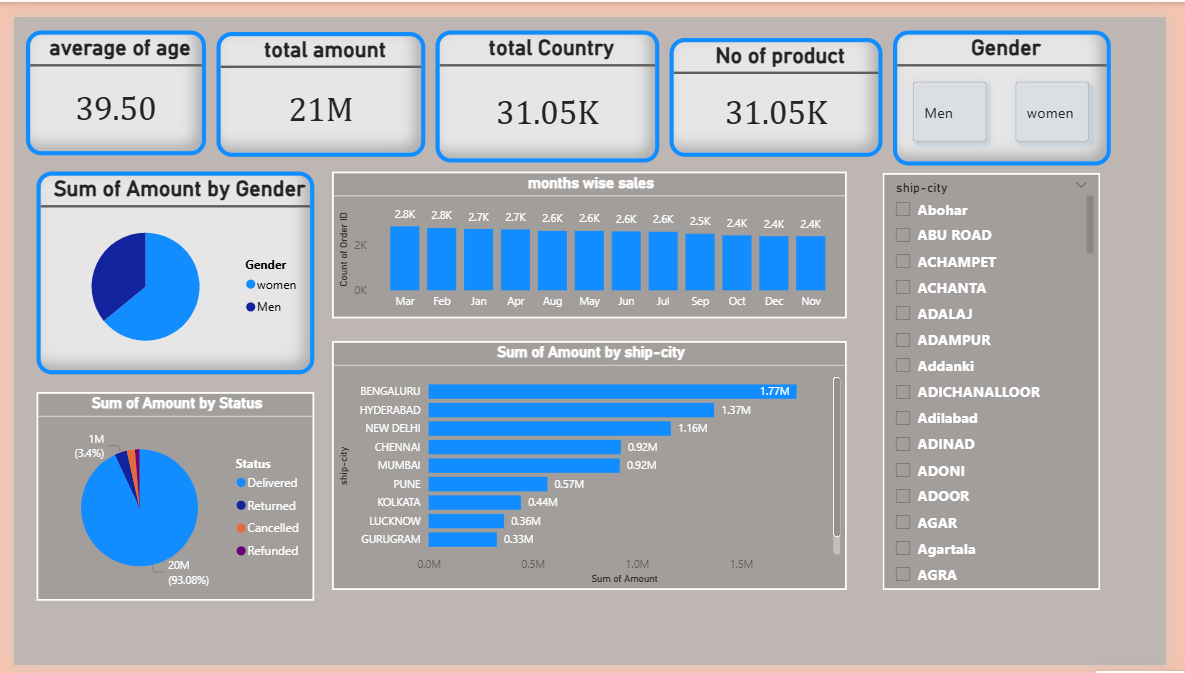

This screenshot's page, from the dashboard's own definition file:
{"tool":"powerbi","page":{"name":"first","canvas":[1280,720],"ordinal":0},"visuals":[{"type":"pieChart","fields":{"Category":["Verma Store.Gender"],"Y":["Sum(Verma Store.Amount)"]},"box":[25,171.7,308.3,225],"z":0},{"type":"clusteredColumnChart","title":"months wise sales","fields":{"Category":["Verma Store.Month"],"Y":["CountNonNull(Verma Store.Order ID)"]},"box":[353.3,171.7,571.7,163.3],"z":1000},{"type":"pieChart","fields":{"Category":["Verma Store.Status"],"Y":["Sum(Verma Store.Amount)"]},"box":[25,416.7,308.3,231.7],"z":2000},{"type":"clusteredBarChart","fields":{"Category":["Verma Store.ship-city"],"Y":["Sum(Verma Store.Amount)"]},"box":[353.3,360,571.7,276.7],"z":3000},{"type":"card","title":"average of age","fields":{"Values":["Avg(Verma Store.Age)"]},"box":[13.3,15,200,138.3],"z":4000},{"type":"card","title":"total amount","fields":{"Values":["Sum(Verma Store.Amount)"]},"box":[225,16.7,231.7,138.3],"z":5000},{"type":"card","title":"total Country","fields":{"Values":["CountNonNull(Verma Store.ship-country)"]},"box":[468.3,15,248.3,146.7],"z":6000},{"type":"card","title":"No of product","fields":{"Values":["CountNonNull(Verma Store.Status)"]},"box":[728.3,23.3,236.7,131.7],"z":7000},{"type":"slicer","fields":{"Values":["Verma Store.ship-city"]},"box":[965,173.3,241.7,463.3],"z":8000},{"type":"advancedSlicerVisual","fields":{"Values":["Verma Store.Gender"]},"box":[976.7,15,241.7,150],"z":9000}]}

Visuals, with their boxes in screenshot pixels (x1, y1, x2, y2), scaled from the page's 1280x720 canvas onto the 1185x673 screenshot:
pieChart - Verma Store.Gender x Sum(Verma Store.Amount): (x1=23, y1=160, x2=309, y2=371)
"months wise sales" clusteredColumnChart: (x1=327, y1=160, x2=856, y2=313)
pieChart - Verma Store.Status x Sum(Verma Store.Amount): (x1=23, y1=389, x2=309, y2=606)
clusteredBarChart - Verma Store.ship-city x Sum(Verma Store.Amount): (x1=327, y1=336, x2=856, y2=595)
"average of age" card: (x1=12, y1=14, x2=197, y2=143)
"total amount" card: (x1=208, y1=16, x2=423, y2=145)
"total Country" card: (x1=434, y1=14, x2=663, y2=151)
"No of product" card: (x1=674, y1=22, x2=893, y2=145)
slicer - Verma Store.ship-city: (x1=893, y1=162, x2=1117, y2=595)
advancedSlicerVisual - Verma Store.Gender: (x1=904, y1=14, x2=1128, y2=154)
